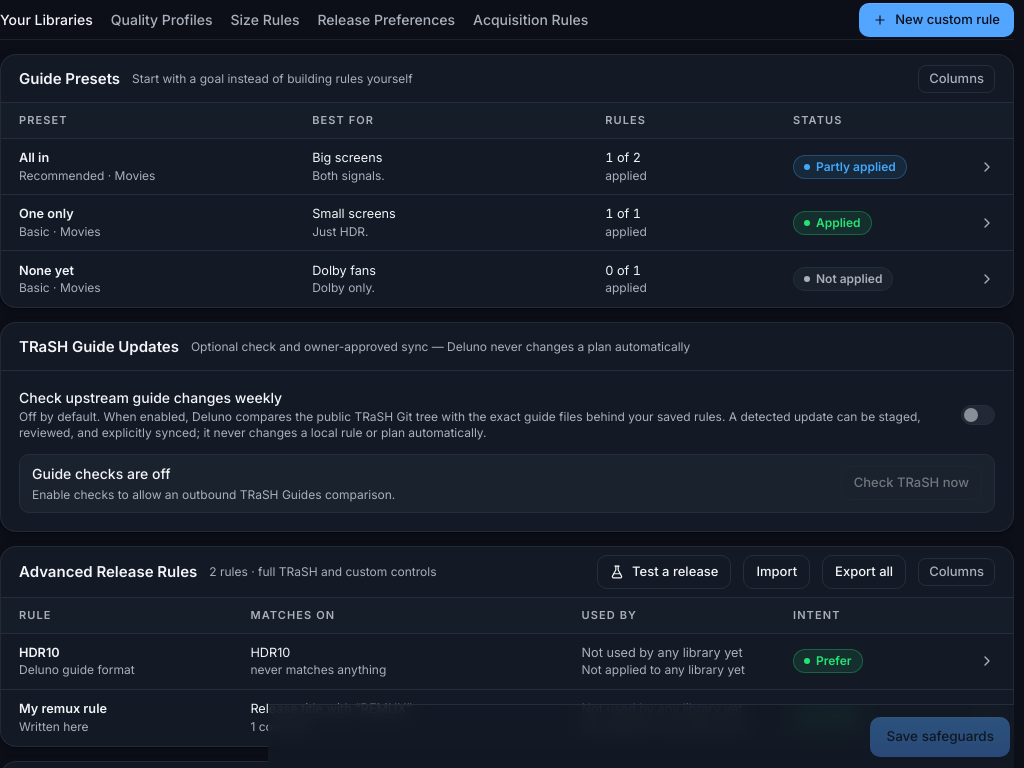
Test case: Test a release › will not test an empty release name
This screenshot has width=1024, height=768.
Step 1. Click the button "Test a release" → (664, 572), box [597,554,731,588]
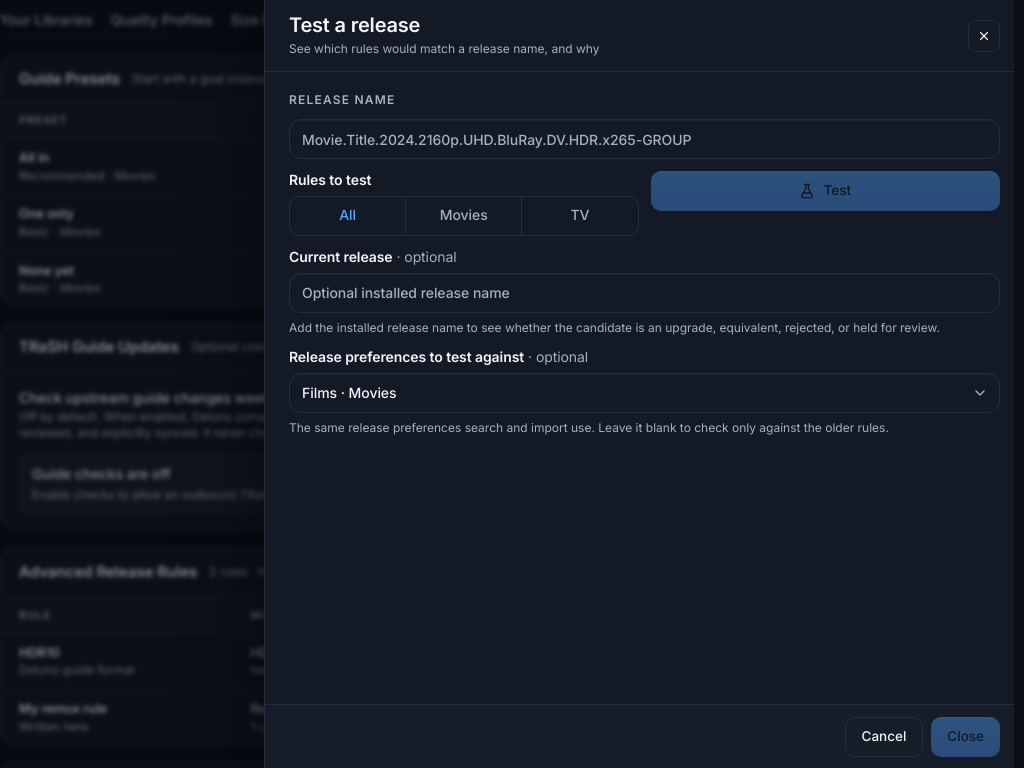
Result: the button "Test" is disabled at [650,171,1000,211]
